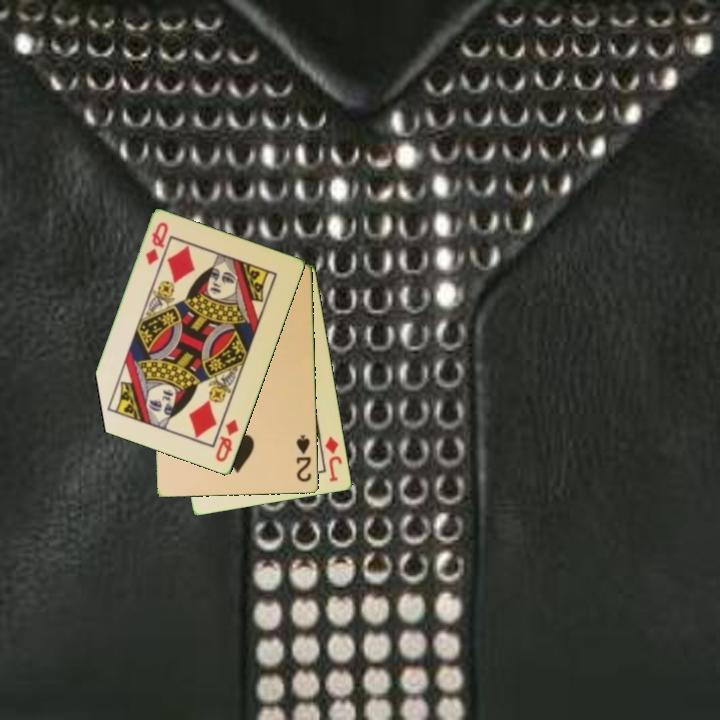2s: (293, 432, 314, 485)
Jd: (322, 433, 345, 485)
Qd: (212, 416, 242, 465), (142, 219, 171, 268)
